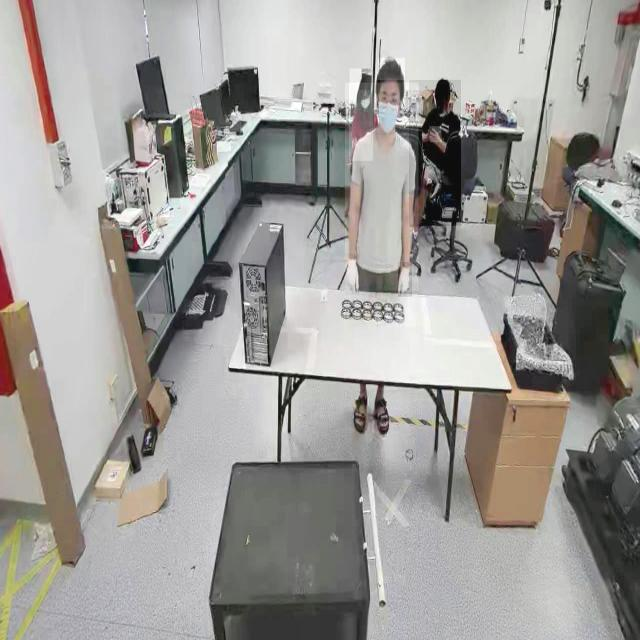face_mask: (375, 101, 399, 135), (360, 95, 370, 111)
face_nomask: (436, 98, 448, 114)
hand_glove: (344, 253, 360, 296), (398, 262, 412, 298)
hand_noglove: (429, 126, 442, 143), (426, 125, 432, 142)
head_nohelmet: (377, 58, 405, 81), (435, 76, 450, 94), (359, 74, 371, 90)
person: (344, 82, 418, 292), (409, 80, 461, 227), (349, 68, 373, 161)
